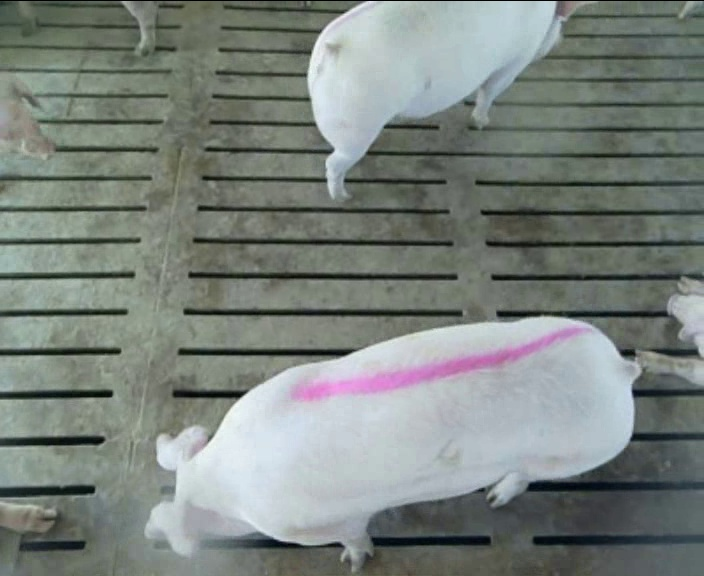pig: (145, 318, 638, 570), (307, 2, 577, 199)
